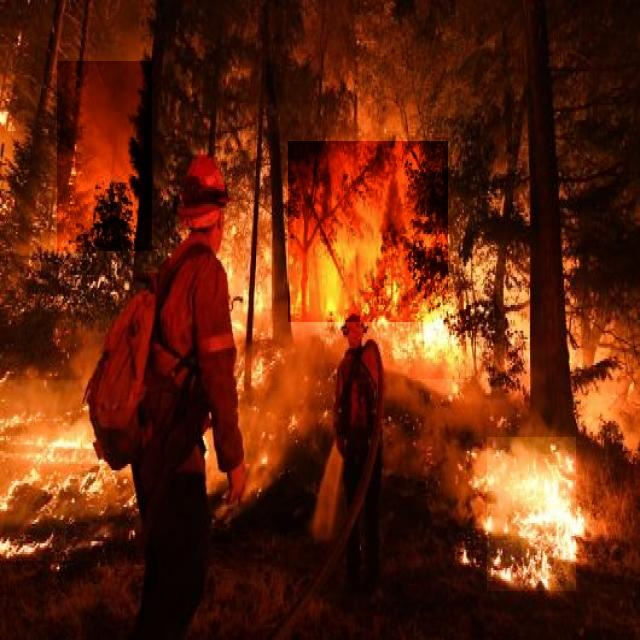Fire: (0, 380, 108, 561), (487, 438, 576, 592), (410, 287, 470, 379), (234, 340, 279, 391)
Smoke: (288, 141, 448, 322), (57, 61, 152, 251)
